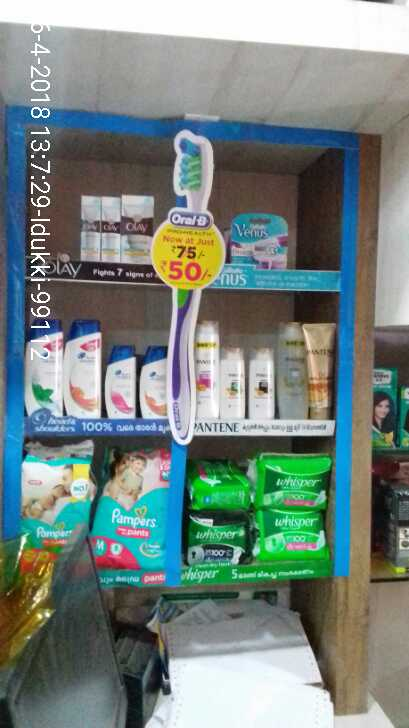venus: (228, 211, 294, 265)
